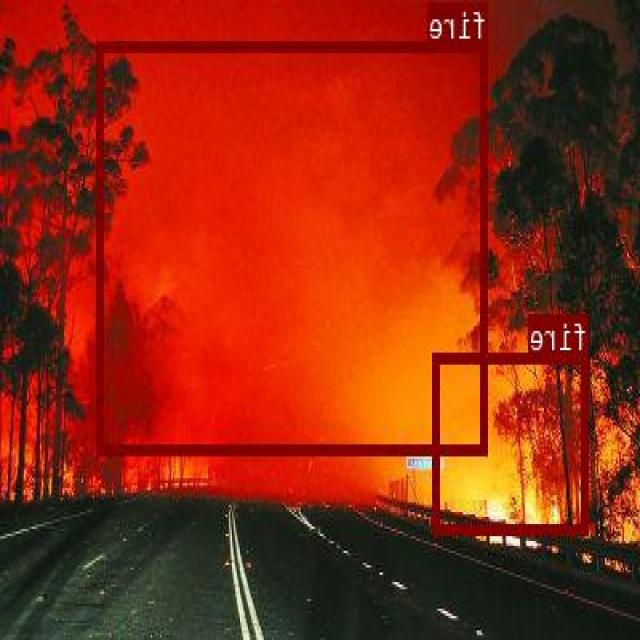fire: (98, 39, 488, 454), (434, 352, 590, 534)
